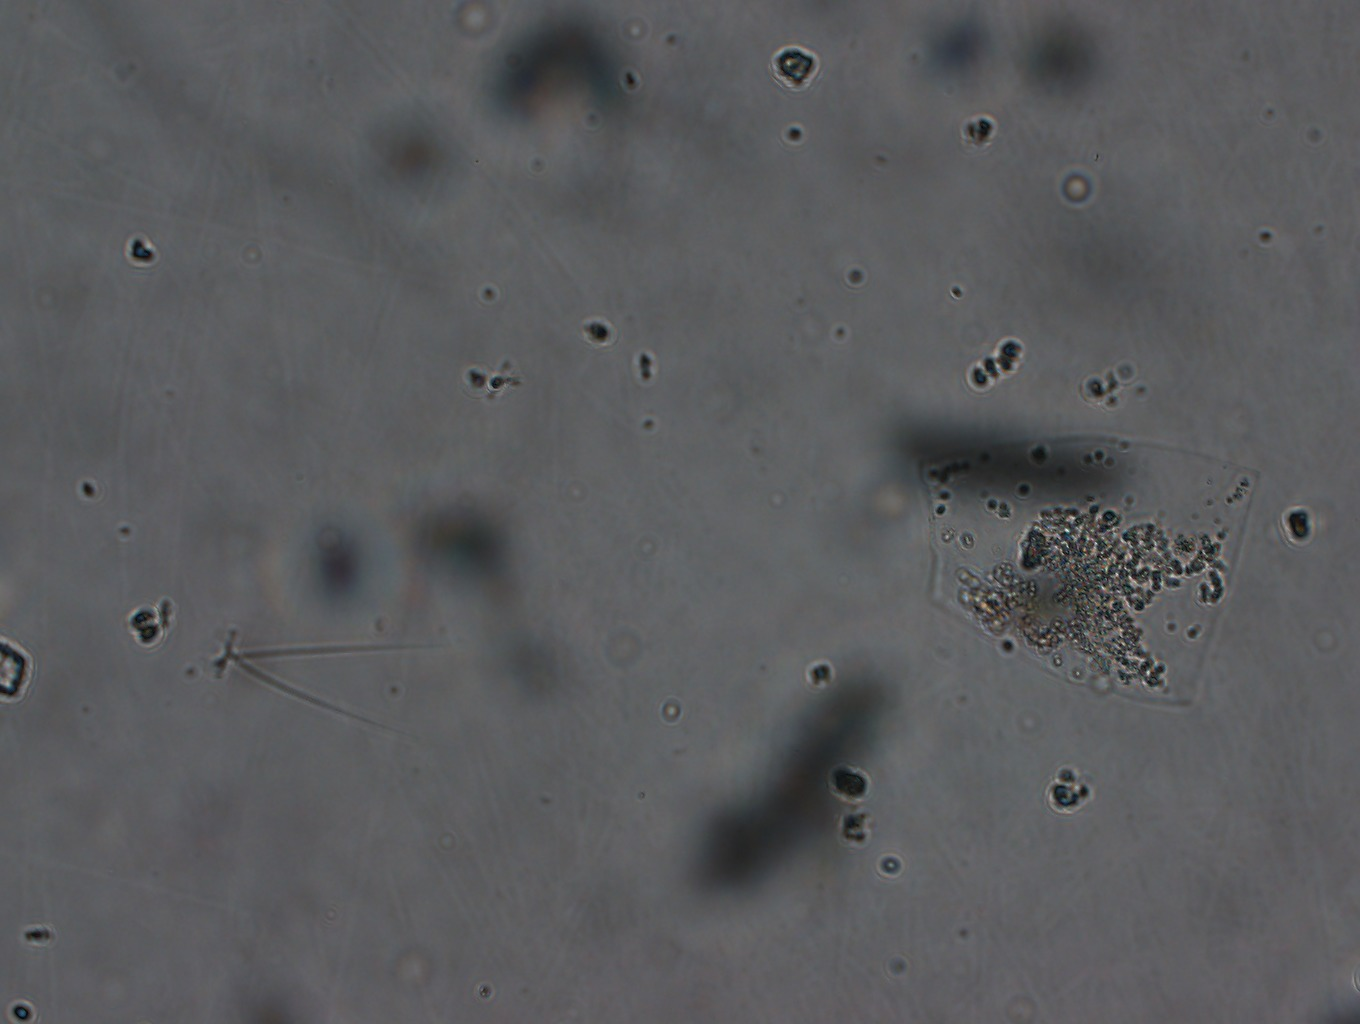helicotheca: (901, 411, 1265, 726)
